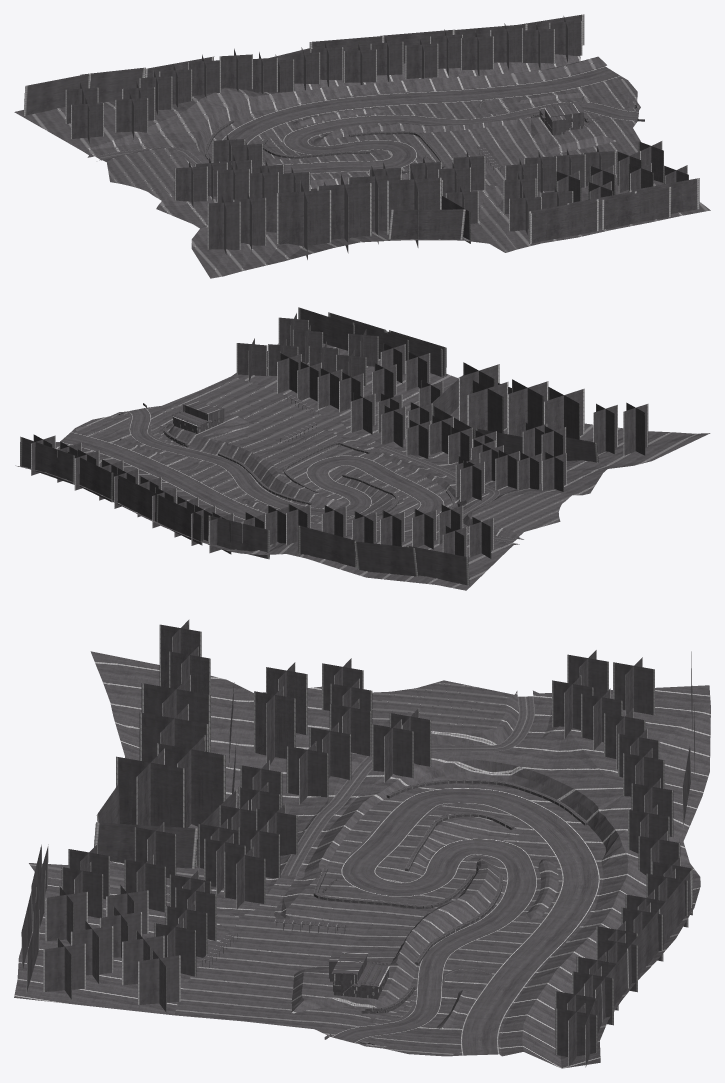
File: ebisuland2.glb
The picture shows the model from 3 angles, top to bottom: view 1: azimuth 30°, elevation 25°; view 2: azimuth 150°, elevation 25°; view 3: azimuth 270°, elevation 25°; orthographic projection. The views are drawn at different scales.
Visible parts, largest first — view 1: ebisuland2; view 2: ebisuland2; view 3: ebisuland2.
Boxes of the visible parts, x1=… form: ebisuland2: x1=14, y1=14, x2=710, y2=278; ebisuland2: x1=15, y1=307, x2=710, y2=590; ebisuland2: x1=14, y1=619, x2=710, y2=1068.
Size of the model in its own units: 267 by 38.38 by 214.
1 material, 1 textured.
